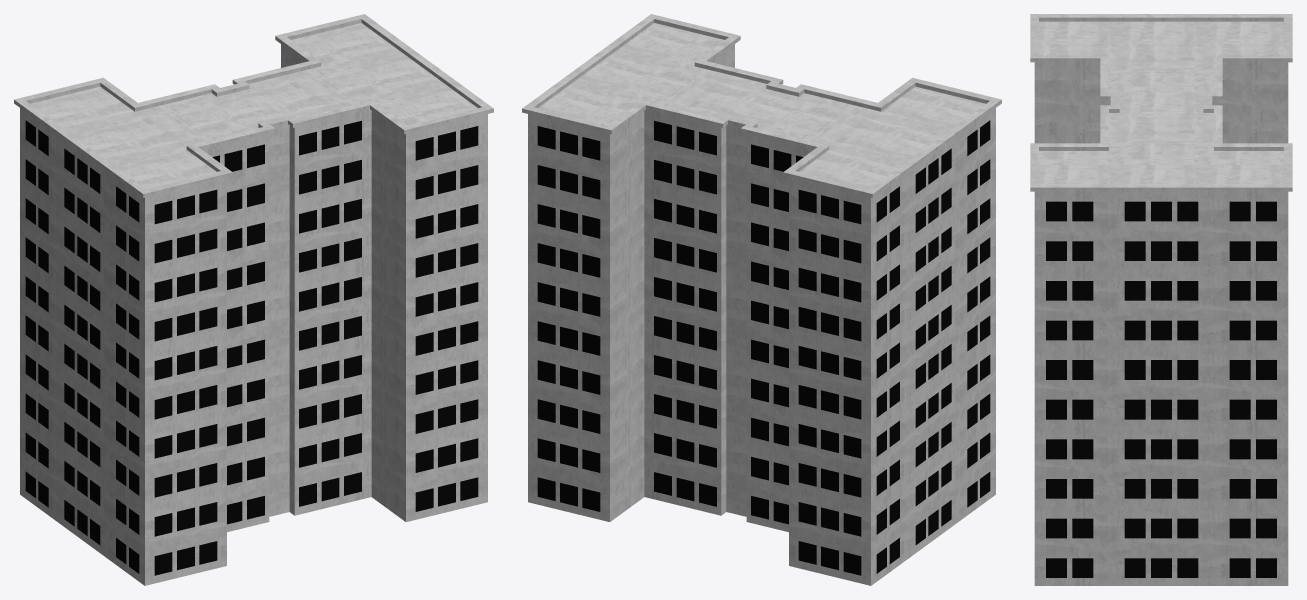
Rendered from building_4.obj.
3 views of the same model, side by side, from view 1: azimuth 30°, elevation 25°; view 2: azimuth 150°, elevation 25°; view 3: azimuth 270°, elevation 25° (orthographic).
Parts seen in each view (by area): view 1: building_4; view 2: building_4; view 3: building_4.
Part boxes in pixels (bbox=[...]): building_4: bbox=[14, 14, 493, 585]; building_4: bbox=[522, 14, 1001, 585]; building_4: bbox=[1030, 14, 1292, 585].
Size of the model in its own units: 47 by 50.5 by 30.
